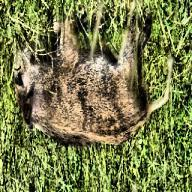boar: (12, 2, 175, 148)
